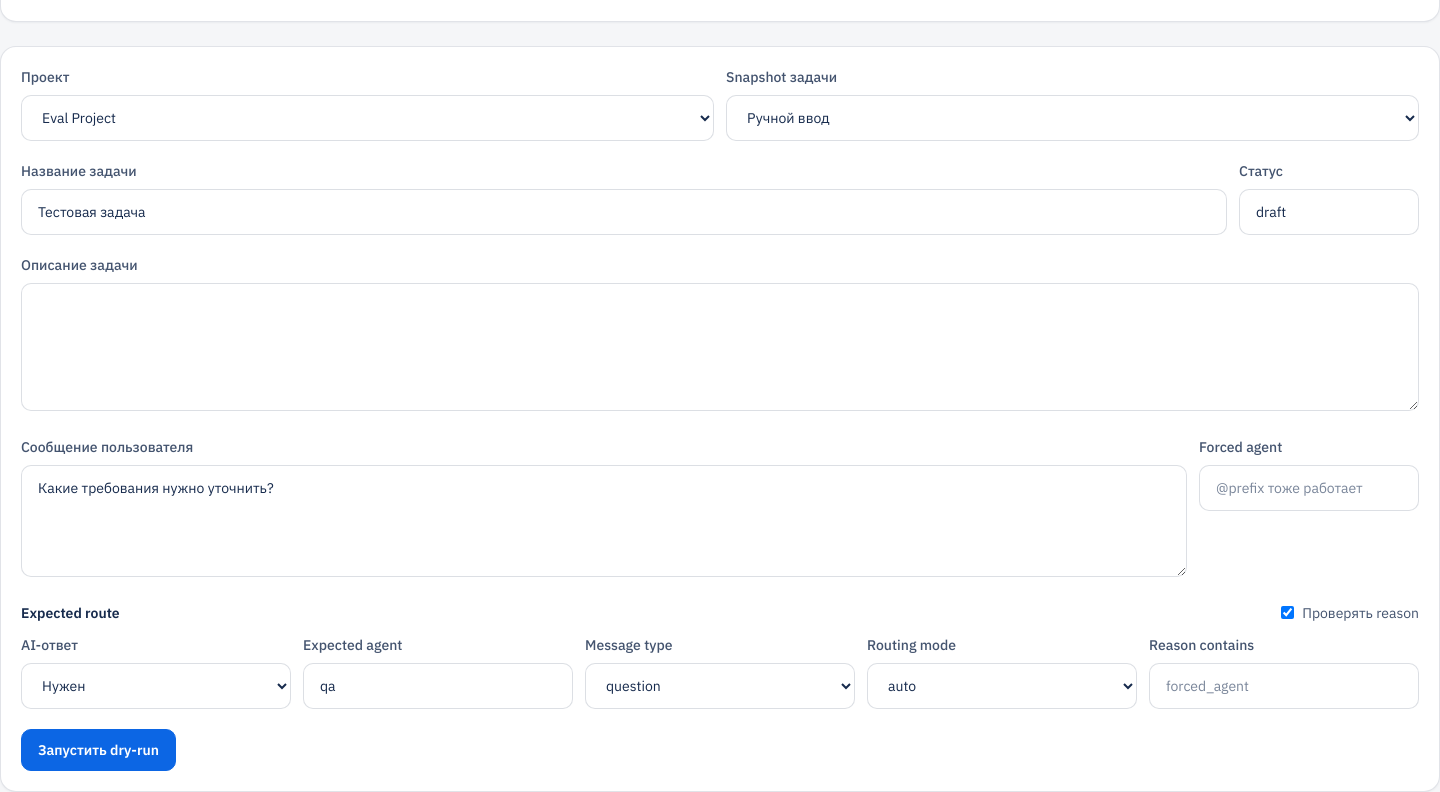
Scenario: OrchestratorEvalPage › runs playground dry-run and renders route comparison as UI
(page scrolled)
Click the button "Запустить dry-run" at coordinates (98, 750), box [21,728,176,770]
(page scrolled)
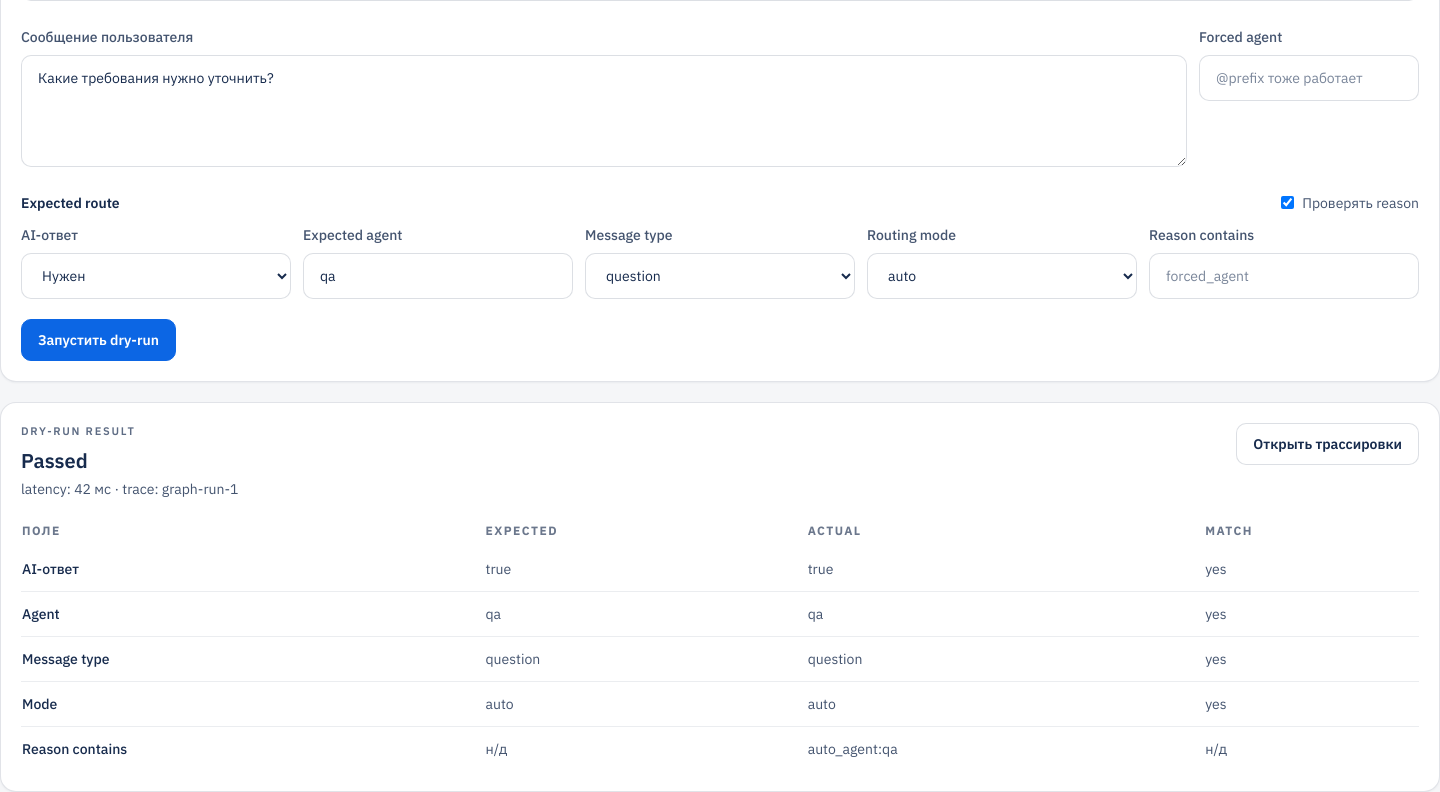
Expected: the text "AI-ответ" is shown, [21,226,78,244]
Now the text "Dry-run result" is shown, box [21,424,136,438]
Now the 1st text "qa" is shown, box [484,592,807,636]
